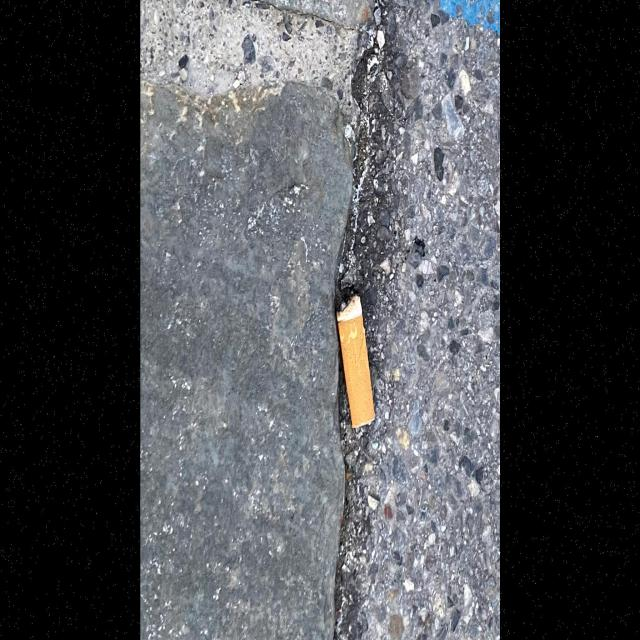other waste: (335, 290, 376, 429)
